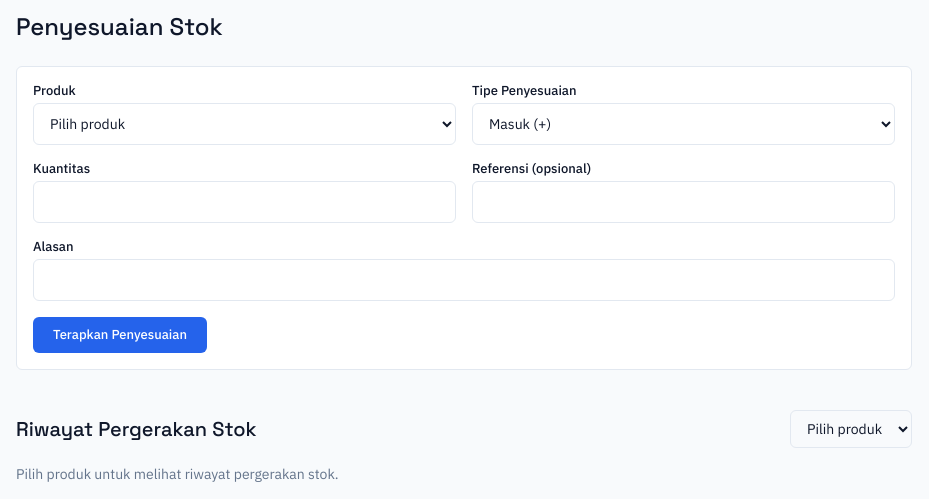
Test: AdminInventory page › surfaces the backend's conflict error for an invalid adjustment
Select "Kopi Susu (stok saat ini: 10)" in the dropdown labelled "Produk": (244, 124) x1=33 y1=103 x2=456 y2=145
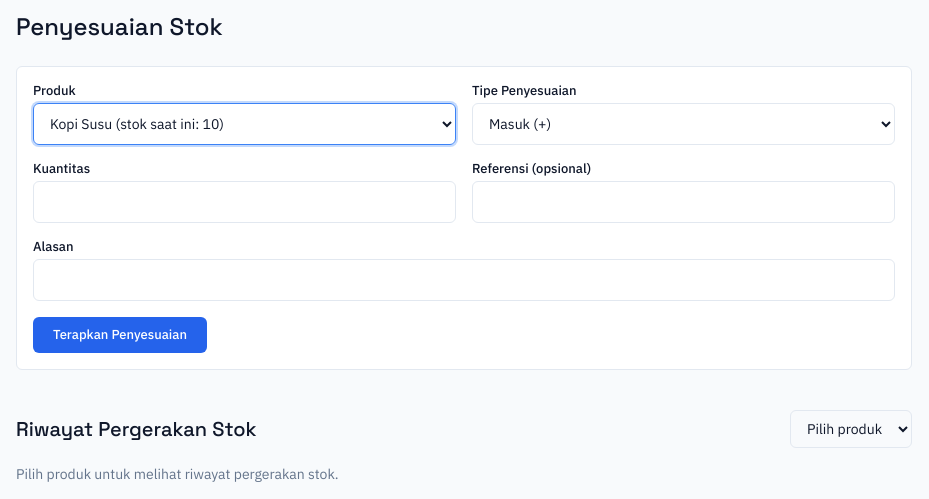
Select "Keluar (-)" in the dropdown labelled "Tipe Penyesuaian": (684, 124) x1=472 y1=103 x2=895 y2=145
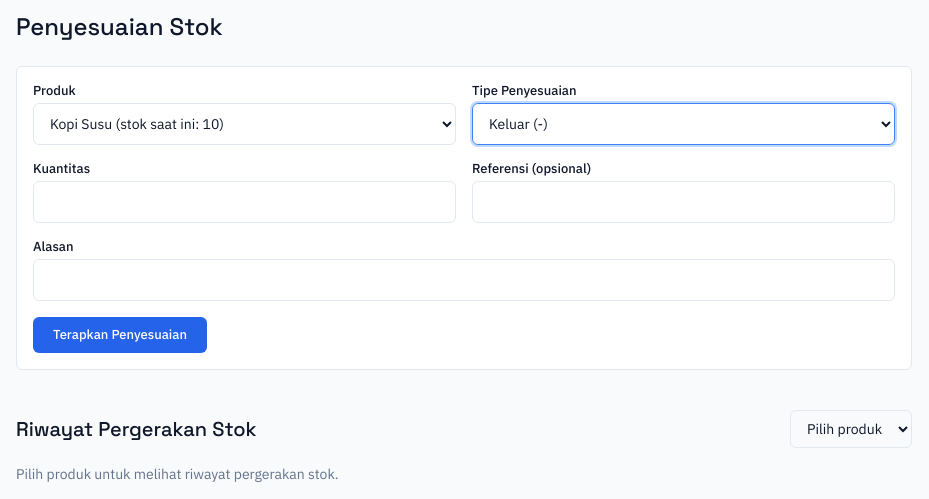
In the number field labelled "Kuantitas": (244, 202) x1=33 y1=181 x2=456 y2=223, type "9999"
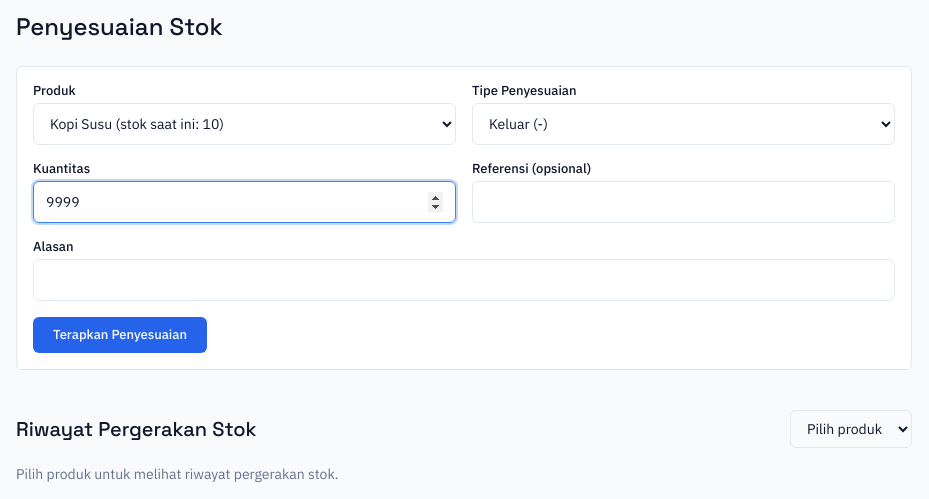
In the field labelled "Alasan": (464, 280) x1=33 y1=259 x2=895 y2=301, type "Test"
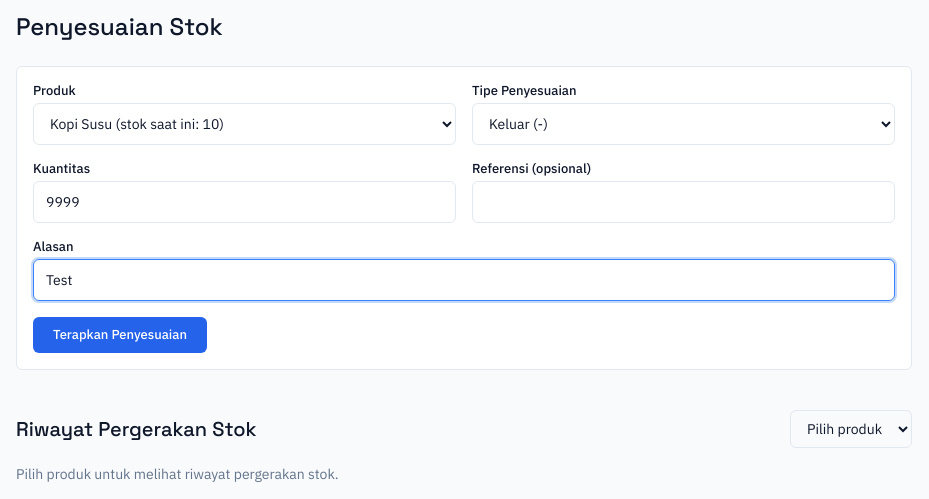
Click the button "Terapkan Penyesuaian": (120, 335) x1=33 y1=317 x2=207 y2=353
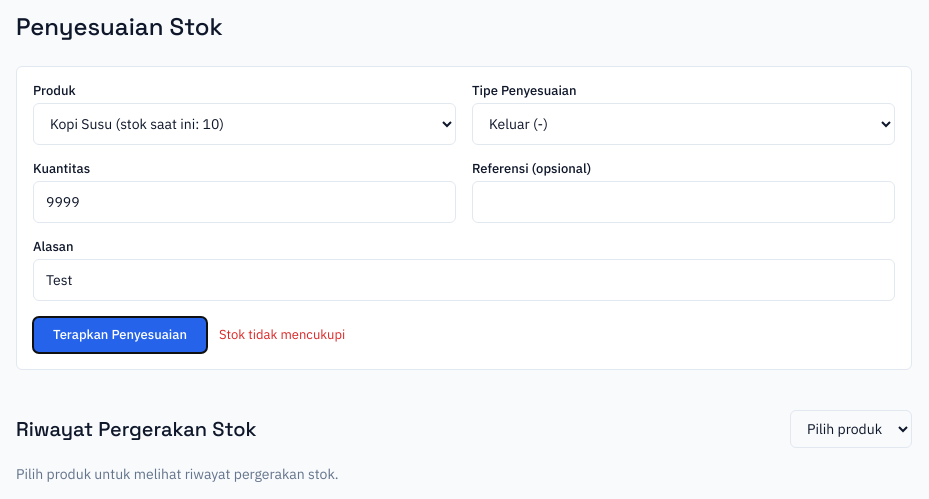
Expected: the message shows "tidak mencukupi", x1=219 y1=326 x2=345 y2=343
